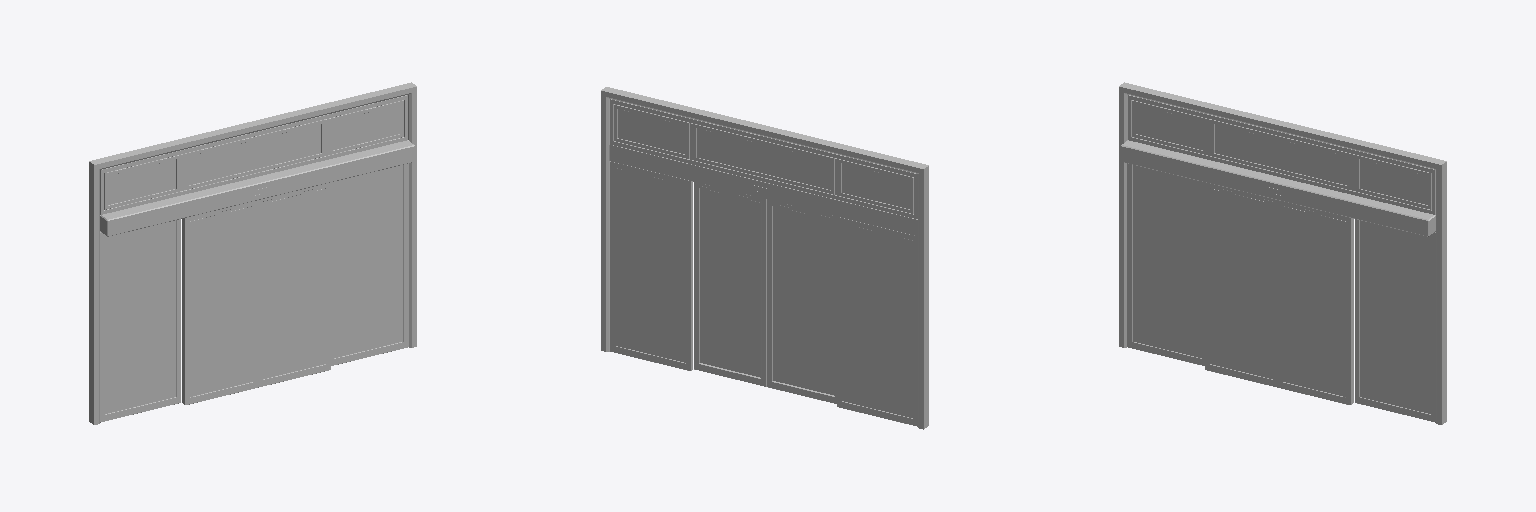
The model's file is Window N110320.obj.
The picture shows the model from 3 angles: view 1: azimuth 30°, elevation 25°; view 2: azimuth 150°, elevation 25°; view 3: azimuth 330°, elevation 25°; orthographic projection.
Visible parts, largest first — view 1: Frame_glass_bottom, Sliding_Doors_glass, Frame, Frame_glass_top, Sensor, Sliding_Doors, Fixed_Doord; view 2: Frame_glass_bottom, Sliding_Doors_glass, Frame, Frame_glass_top, Fixed_Doord, Sliding_Doors; view 3: Frame_glass_bottom, Sliding_Doors_glass, Frame, Frame_glass_top, Sensor, Sliding_Doors, Fixed_Doord.
Boxes of the visible parts, <box> form: Frame_glass_bottom: <box>105,165,402,413</box>; Sliding_Doors_glass: <box>190,189,325,396</box>; Frame: <box>89,82,416,424</box>; Frame_glass_top: <box>108,105,400,204</box>; Sensor: <box>100,140,414,236</box>; Sliding_Doors: <box>182,182,330,404</box>; Fixed_Doord: <box>100,163,408,422</box>; Frame_glass_bottom: <box>615,168,912,417</box>; Sliding_Doors_glass: <box>700,188,834,395</box>; Frame: <box>601,87,928,429</box>; Frame_glass_top: <box>618,109,909,208</box>; Fixed_Doord: <box>610,161,917,426</box>; Sliding_Doors: <box>694,182,836,403</box>; Frame_glass_bottom: <box>1133,165,1430,413</box>; Sliding_Doors_glass: <box>1210,189,1345,396</box>; Frame: <box>1119,82,1446,424</box>; Frame_glass_top: <box>1135,105,1427,204</box>; Sensor: <box>1121,140,1435,236</box>; Sliding_Doors: <box>1205,182,1353,404</box>; Fixed_Doord: <box>1127,163,1435,422</box>.
Size of the model in its own units: 157 by 121 by 9.38.